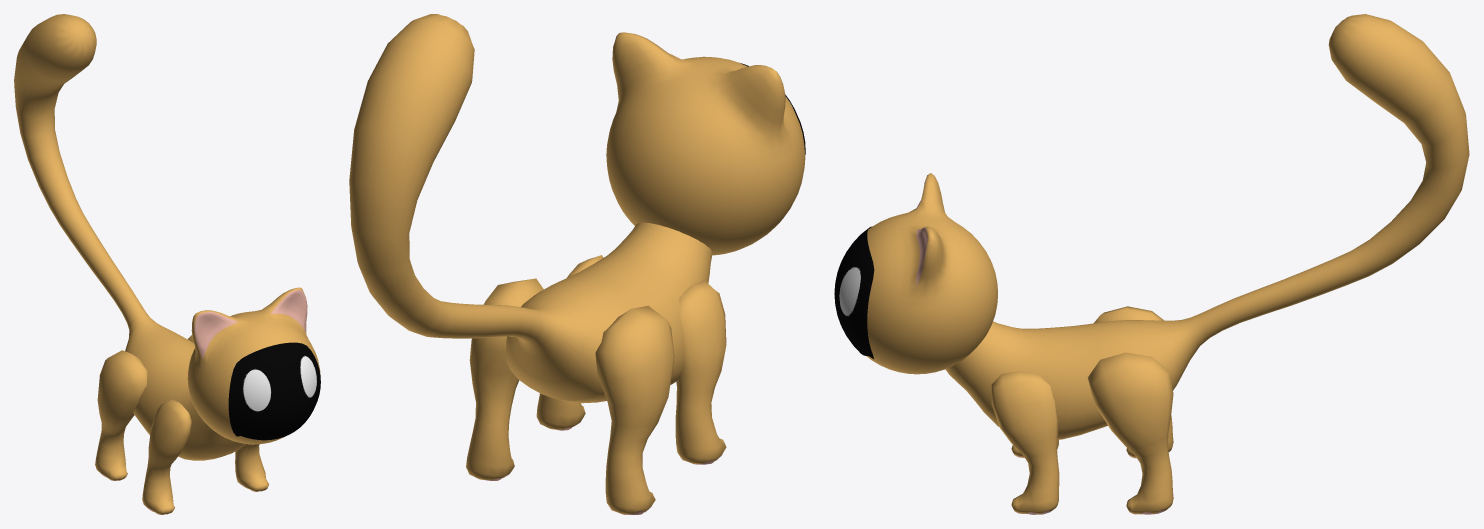
File: cat model test.obj
3 renders of one model, left to right at view 1: azimuth 30°, elevation 25°; view 2: azimuth 150°, elevation 25°; view 3: azimuth 270°, elevation 25°, orthographic. The views are drawn at different scales.
Parts seen in each view (by area): view 1: Body, Face; view 2: Body; view 3: Body, Face.
Boxes of the visible parts, left/top/right/bottom form: Body: left=14, top=14, right=320, bottom=514; Face: left=228, top=342, right=320, bottom=440; Body: left=349, top=14, right=805, bottom=514; Body: left=866, top=14, right=1469, bottom=514; Face: left=834, top=226, right=874, bottom=358.
Size of the model in its own units: 2.31 by 6.81 by 8.42.
